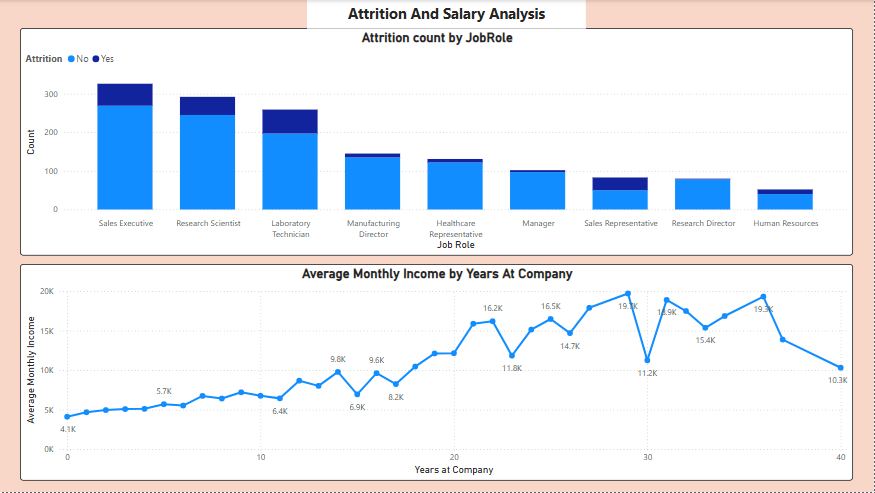

What the dashboard file says about the page in this screenshot:
{"tool":"powerbi","page":{"name":"Attrition and Salary Analysis","canvas":[1280,720],"ordinal":1},"visuals":[{"type":"columnChart","title":" Attrition count by JobRole ","fields":{"Category":["clean_employee_attrition.JobRole"],"Y":["CountNonNull(clean_employee_attrition.Attrition)"],"Series":["clean_employee_attrition.Attrition"]},"box":[29.5,41.6,1219.3,333],"z":0},{"type":"lineChart","title":"Average Monthly Income by Years At Company","fields":{"Y":["Avg(clean_employee_attrition.MonthlyIncome)"],"Category":["clean_employee_attrition.YearsAtCompany"]},"box":[29.5,386.8,1219.3,317.4],"z":1000},{"type":"textbox","box":[449.2,0,407.6,41.6],"z":2000}]}

Visuals, with their boxes in screenshot pixels (x1, y1, x2, y2), scaled from the page's 1280x720 canvas onto the 875x493 screenshot:
" Attrition count by JobRole " columnChart: 20, 28, 854, 256
"Average Monthly Income by Years At Company" lineChart: 20, 265, 854, 482
textbox: 307, 0, 586, 28
